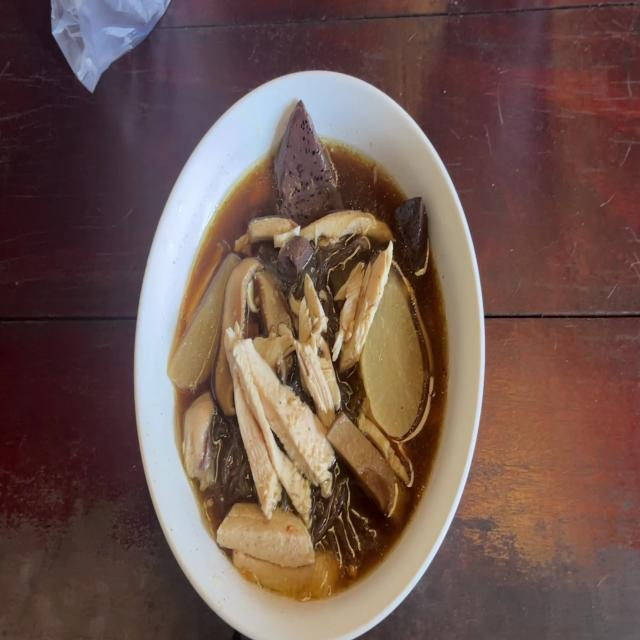noodle: (273, 102, 340, 209), (398, 200, 430, 266), (278, 234, 311, 276)
